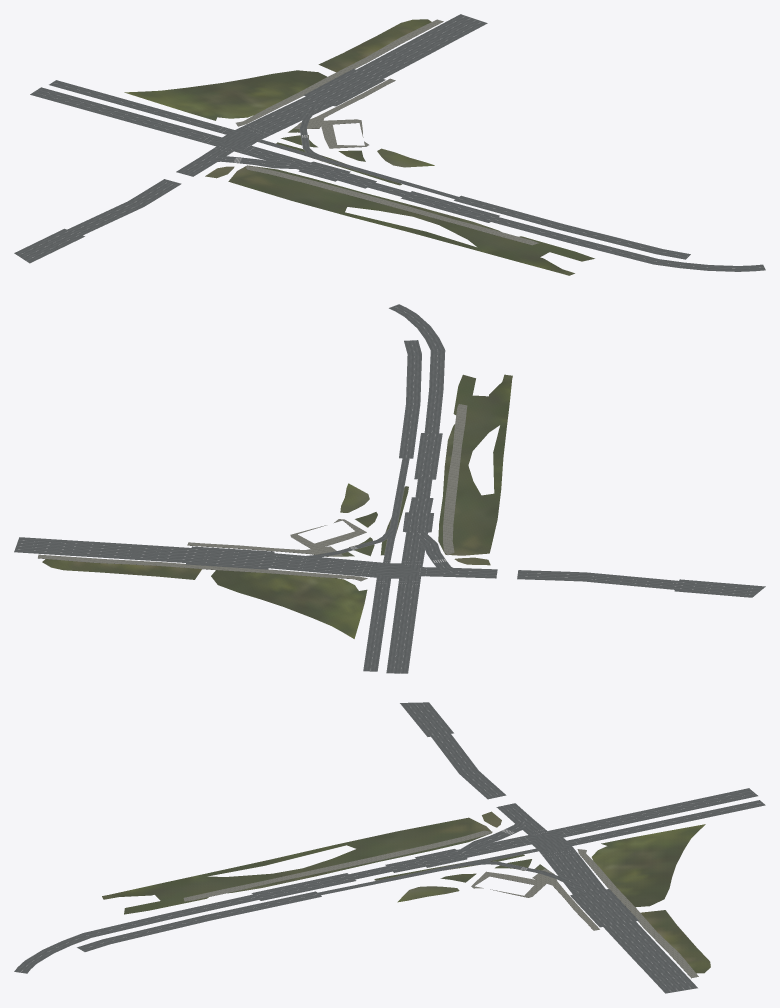
3 renders of one model, top to bottom at view 1: azimuth 30°, elevation 25°; view 2: azimuth 150°, elevation 25°; view 3: azimuth 270°, elevation 25°, orthographic. The views are drawn at different scales.
Visible parts, largest first — view 1: Marina Centre asphalt, Planted road margins, Paved approaches and stone kerbs; view 2: Marina Centre asphalt, Planted road margins, Paved approaches and stone kerbs; view 3: Marina Centre asphalt, Planted road margins, Paved approaches and stone kerbs, Marina Centre road paint.
Boxes of the visible parts, x1,y1,x2,y2 form: Marina Centre asphalt: (14,14,765,271); Planted road margins: (124,19,594,275); Paved approaches and stone kerbs: (236,19,538,245); Marina Centre asphalt: (14,304,765,673); Planted road margins: (42,374,512,638); Paved approaches and stone kerbs: (38,404,467,581); Marina Centre asphalt: (14,702,765,993); Planted road margins: (102,811,710,973); Paved approaches and stone kerbs: (183,830,698,978); Marina Centre road paint: (21,705,760,990).
Size of the model in its own units: 307 by 0.1231 by 335.
4 materials, 4 textured.
